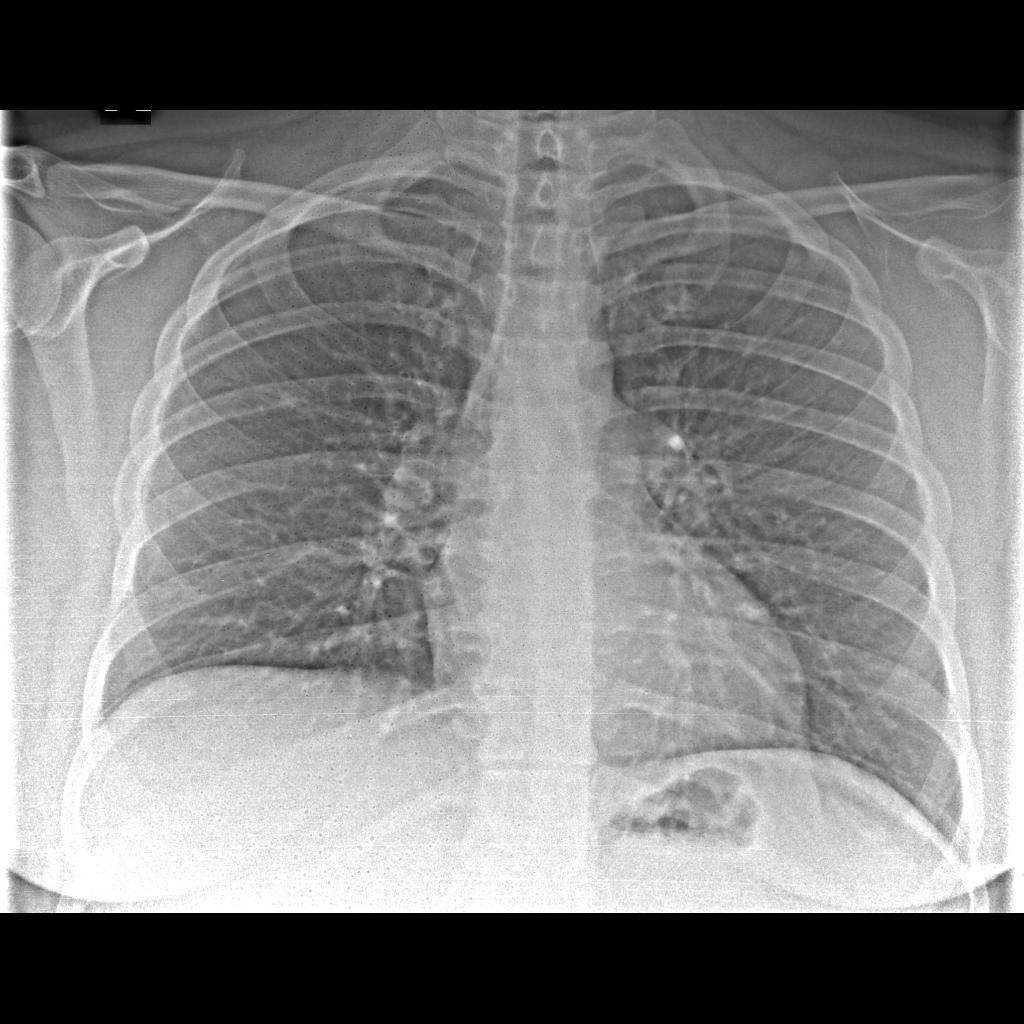Nodule: (272, 382, 306, 419)
